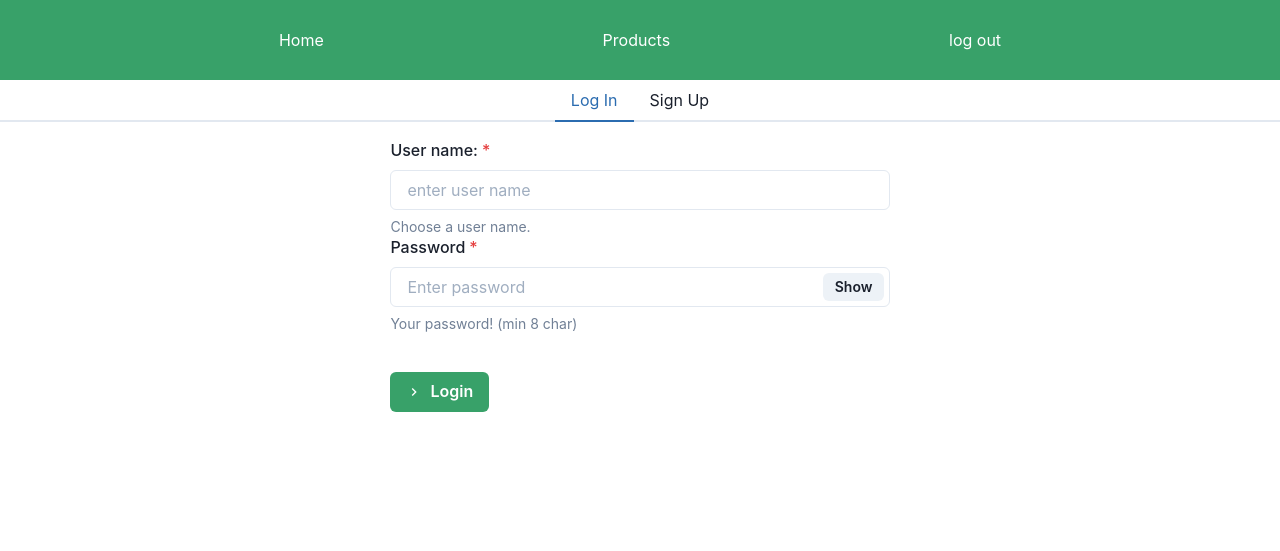
Test: Sign up form input validation › rejects empty credentials
Click the tab with test id "signup-tab": (680, 101) [634,80,726,122]
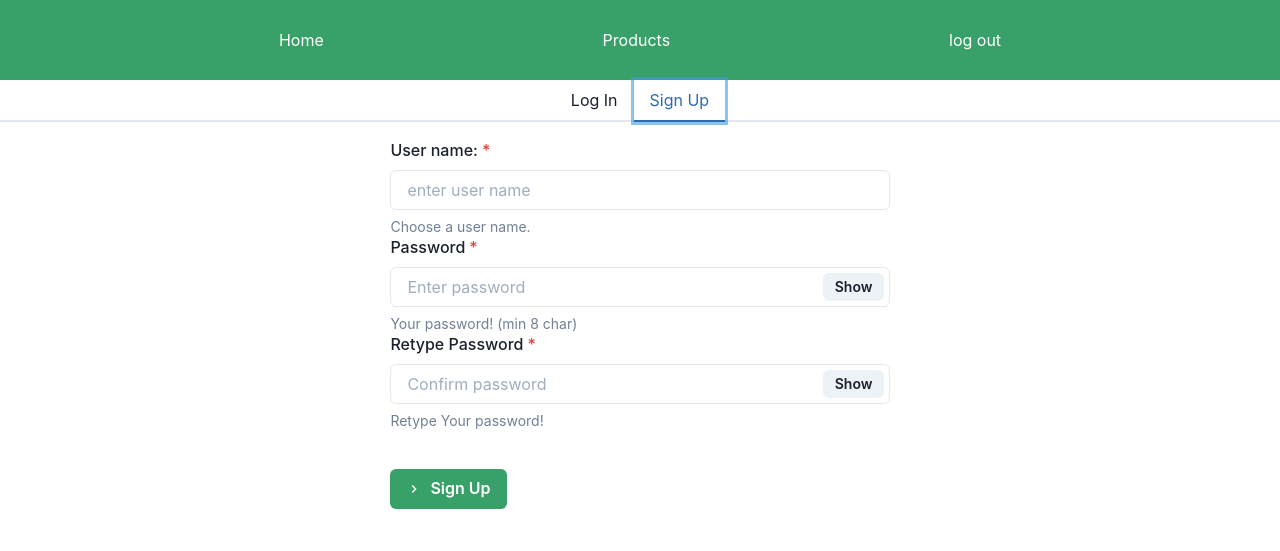
Result: the element with test id "signup-form" is shown at [390,138,889,509]
Click the button with test id "signup-submit": (448, 489) [390,469,506,509]
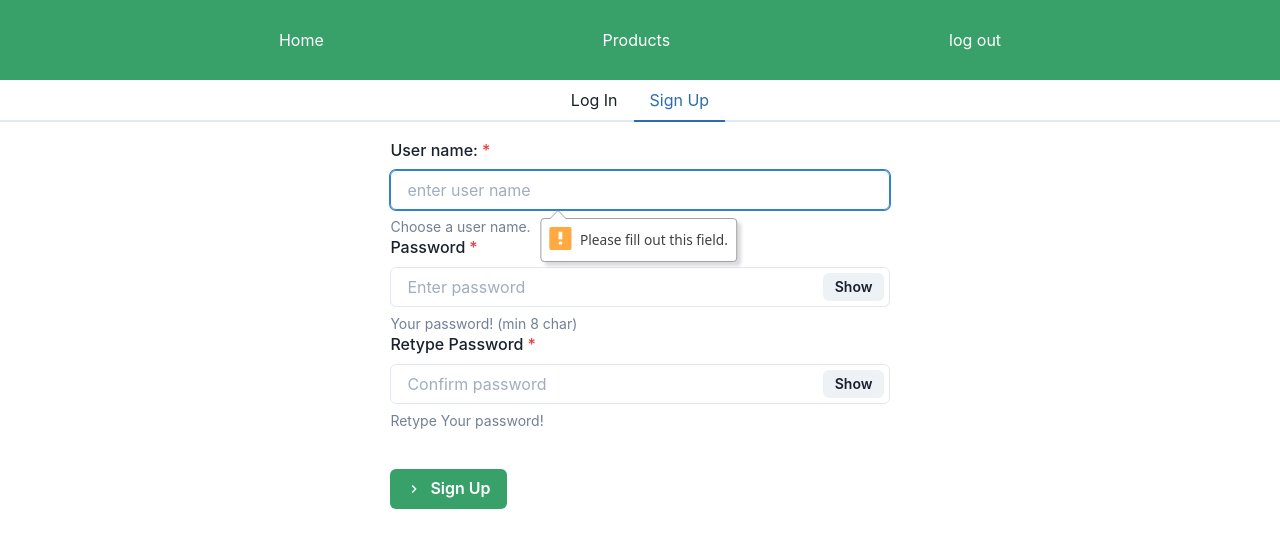
Click the button with test id "signup-submit": (448, 489) [390,469,506,509]
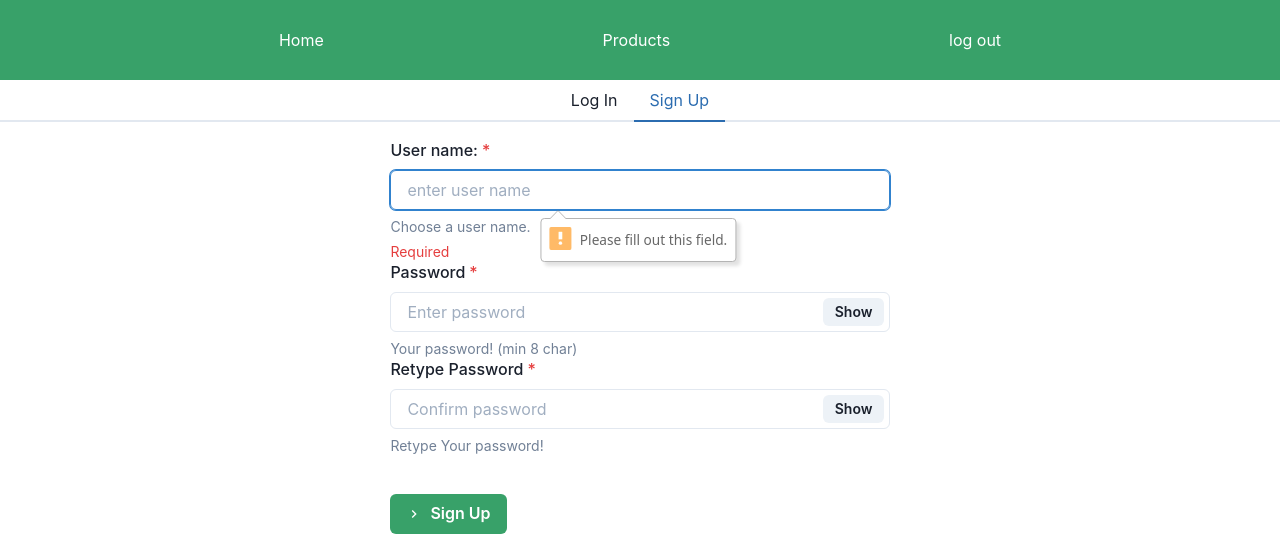
Result: the text with test id "signup-user-error" reads "Required" at [390,243,449,260]
